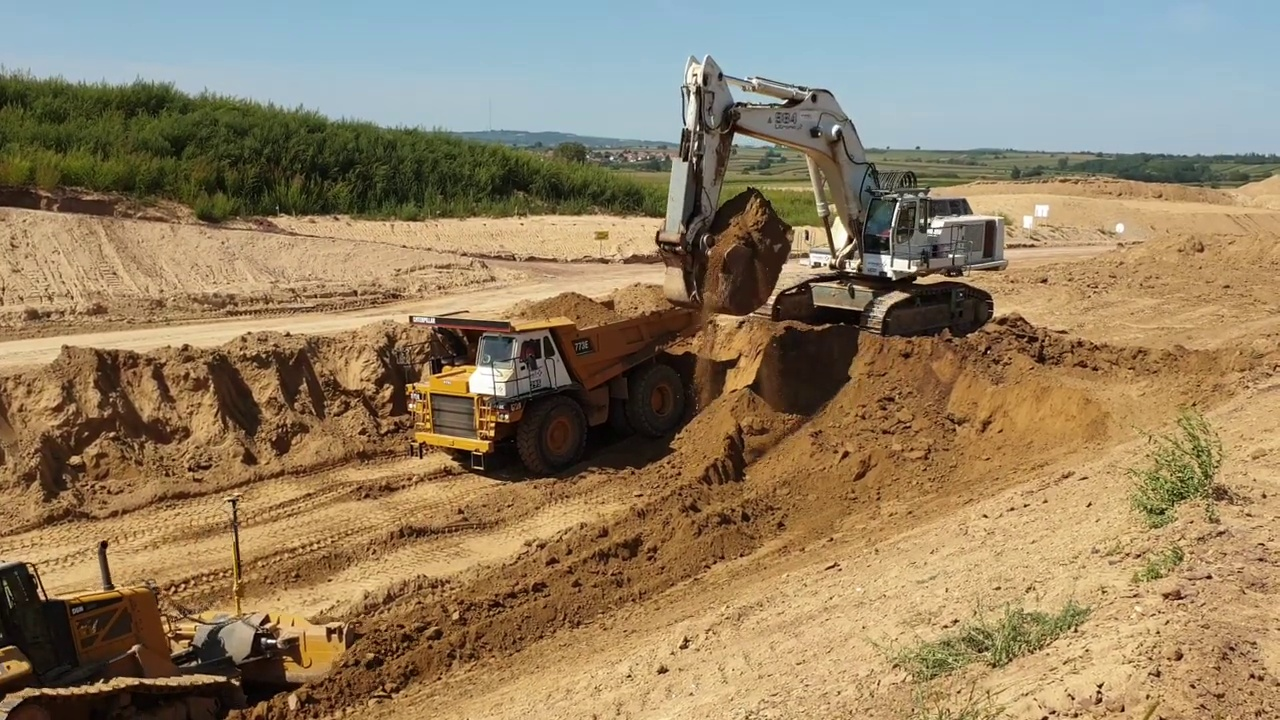bulldozer: (4, 489, 357, 720)
excavator: (653, 48, 1012, 340)
truck: (402, 292, 711, 482)
